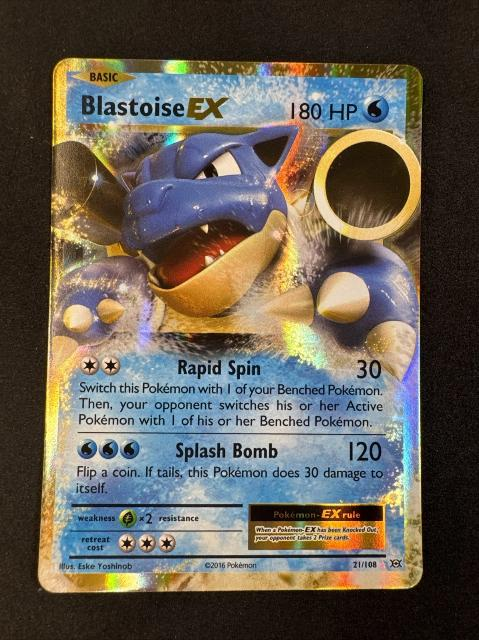Card: (34, 57, 426, 594)
Name: (76, 89, 233, 125)
